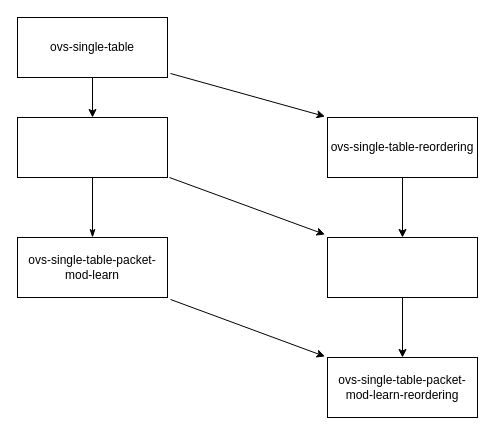
Image size: 495x435. Some labels were removed from this diagram. The shapes that lost their labels are listed below. From the top down, each one's box as (x1, y1, x2, y2) in pixels, then its label:
(16, 116, 168, 178): ovs-single-table-packet-mod
(326, 236, 478, 298): ovs-single-table-packet-mod-reordering
